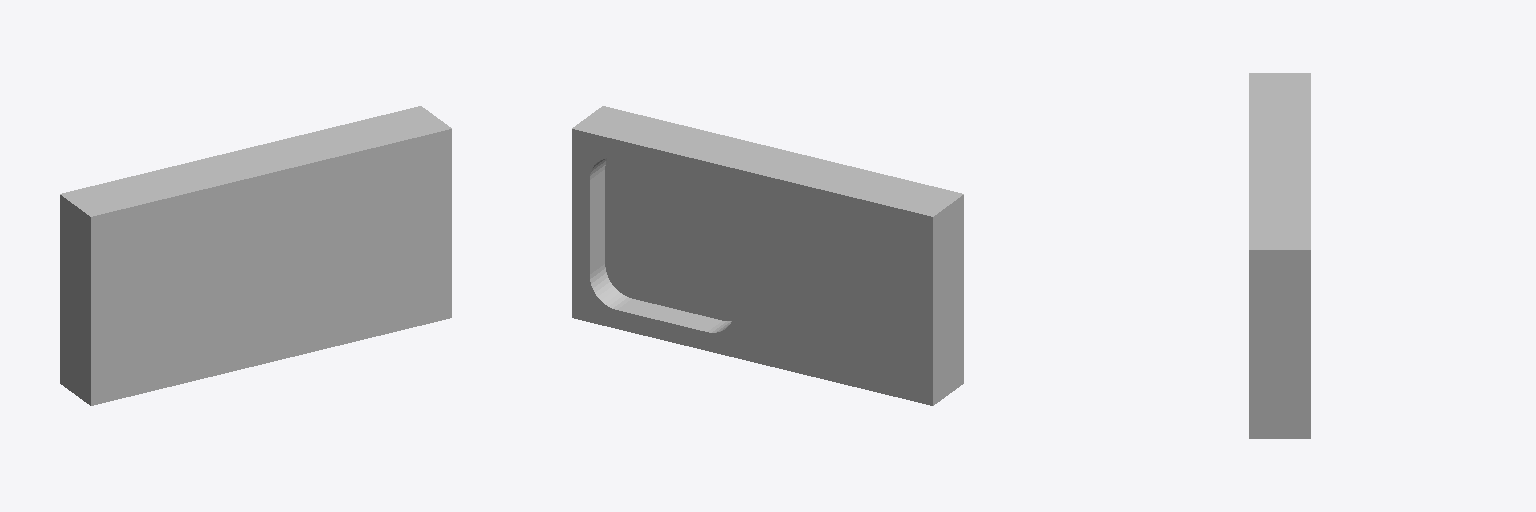
File: Teil_5large.obj
3 renders of one model, left to right at view 1: azimuth 30°, elevation 25°; view 2: azimuth 150°, elevation 25°; view 3: azimuth 270°, elevation 25°, orthographic.
Visible parts, largest first — view 1: Teil_5; view 2: Teil_5; view 3: Teil_5.
Part boxes in pixels (x1,y1,x2,y2): Teil_5: (60,106,451,405); Teil_5: (572,106,963,405); Teil_5: (1249,73,1310,438).
Bounding box in the file's own units: 0.4 × 0.2 × 0.06.